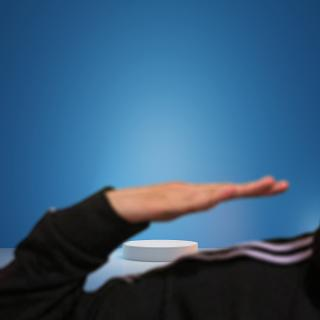Wait: (104, 163, 300, 228)
